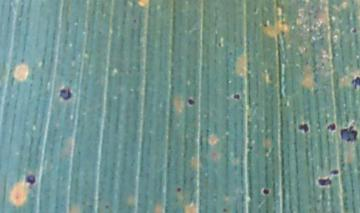tarspot: (339, 125, 358, 142), (58, 87, 72, 99), (297, 122, 309, 134), (25, 173, 35, 185), (317, 177, 332, 185), (352, 76, 360, 88), (325, 123, 336, 131), (186, 97, 195, 105), (329, 168, 338, 176), (262, 187, 270, 195), (232, 93, 241, 100), (216, 41, 223, 48), (262, 22, 268, 28), (351, 28, 358, 33), (177, 185, 181, 192)
